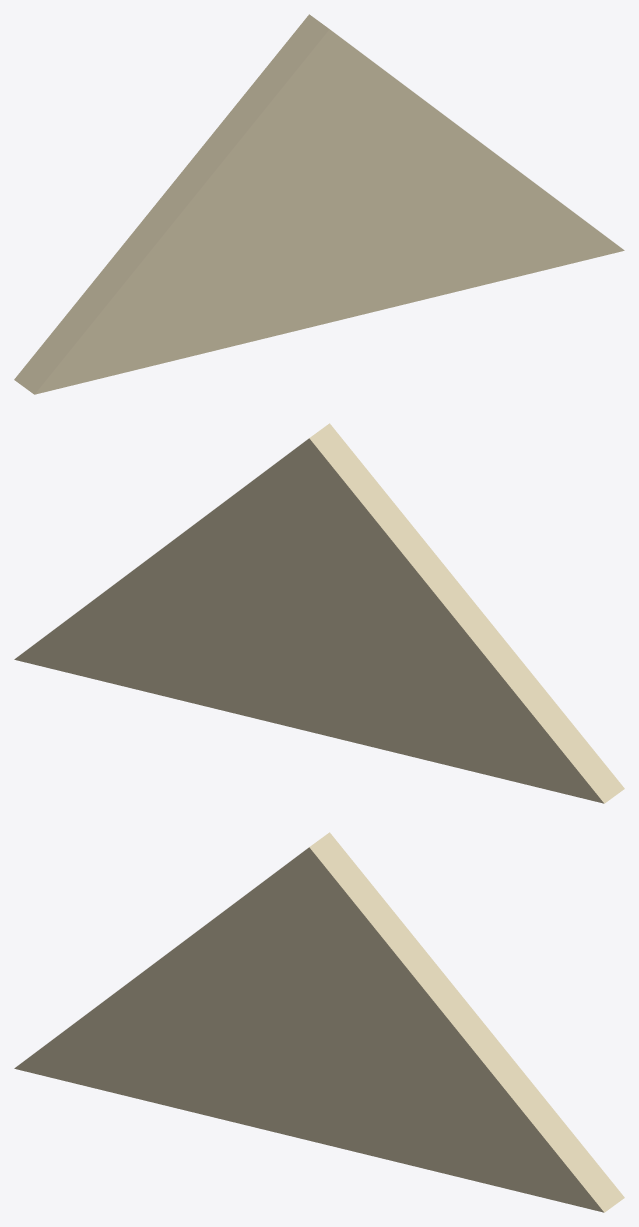
The model's file is 882_tile_closed_gable_infill.fbx.
3 views of the same model, one above another, from view 1: azimuth 30°, elevation 25°; view 2: azimuth 150°, elevation 25°; view 3: azimuth 330°, elevation 25° (orthographic).
Visible parts, largest first — view 1: 882_tile_closed_gable_infill; view 2: 882_tile_closed_gable_infill; view 3: 882_tile_closed_gable_infill.
Boxes of the visible parts, x1,y1,x2,y2 form: 882_tile_closed_gable_infill: (14,14,624,394); 882_tile_closed_gable_infill: (14,423,624,803); 882_tile_closed_gable_infill: (14,832,624,1212).
Bounding box in the file's own units: 2 × 0.95 × 0.12.
Materials: 1 (1 with a texture image).
